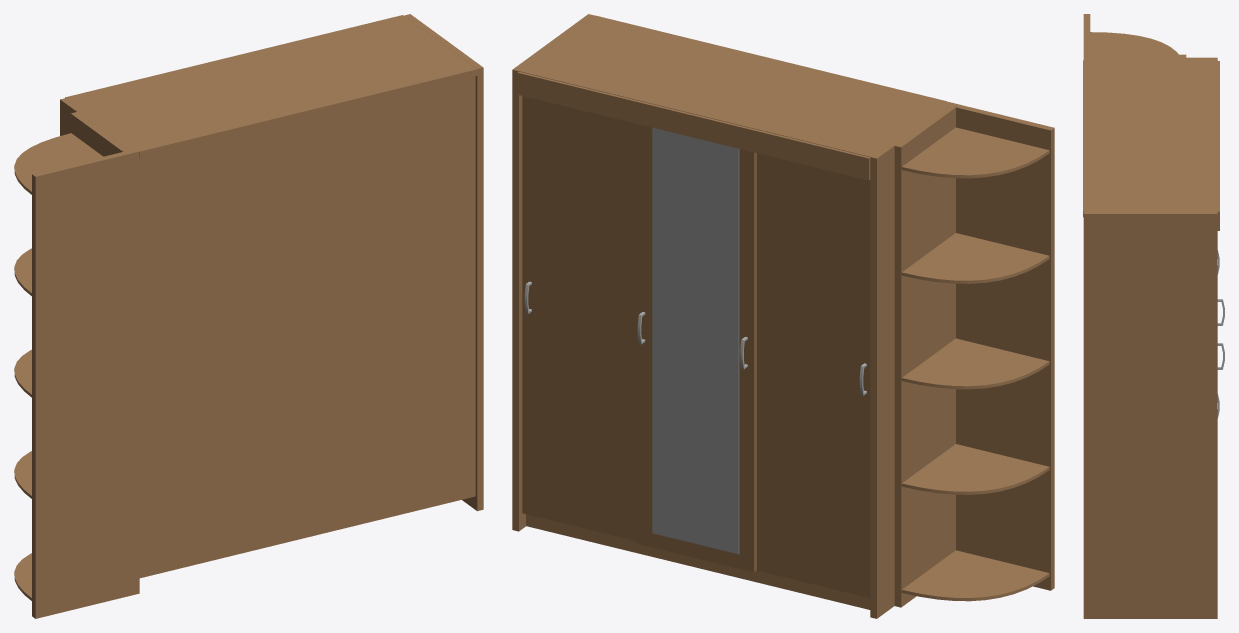
Rendered from cabinet_2.FBX.
3 renders of one model, left to right at view 1: azimuth 30°, elevation 25°; view 2: azimuth 150°, elevation 25°; view 3: azimuth 270°, elevation 25°, orthographic. The views are drawn at different scales.
Parts seen in each view (by area): view 1: cabinet_2; view 2: cabinet_2; view 3: cabinet_2.
Part boxes in pixels (x1,y1,x2,y2): cabinet_2: (14,14,483,618); cabinet_2: (512,14,1054,618); cabinet_2: (1083,14,1224,618).
Size of the model in its own units: 2.12 by 2 by 0.6349.
